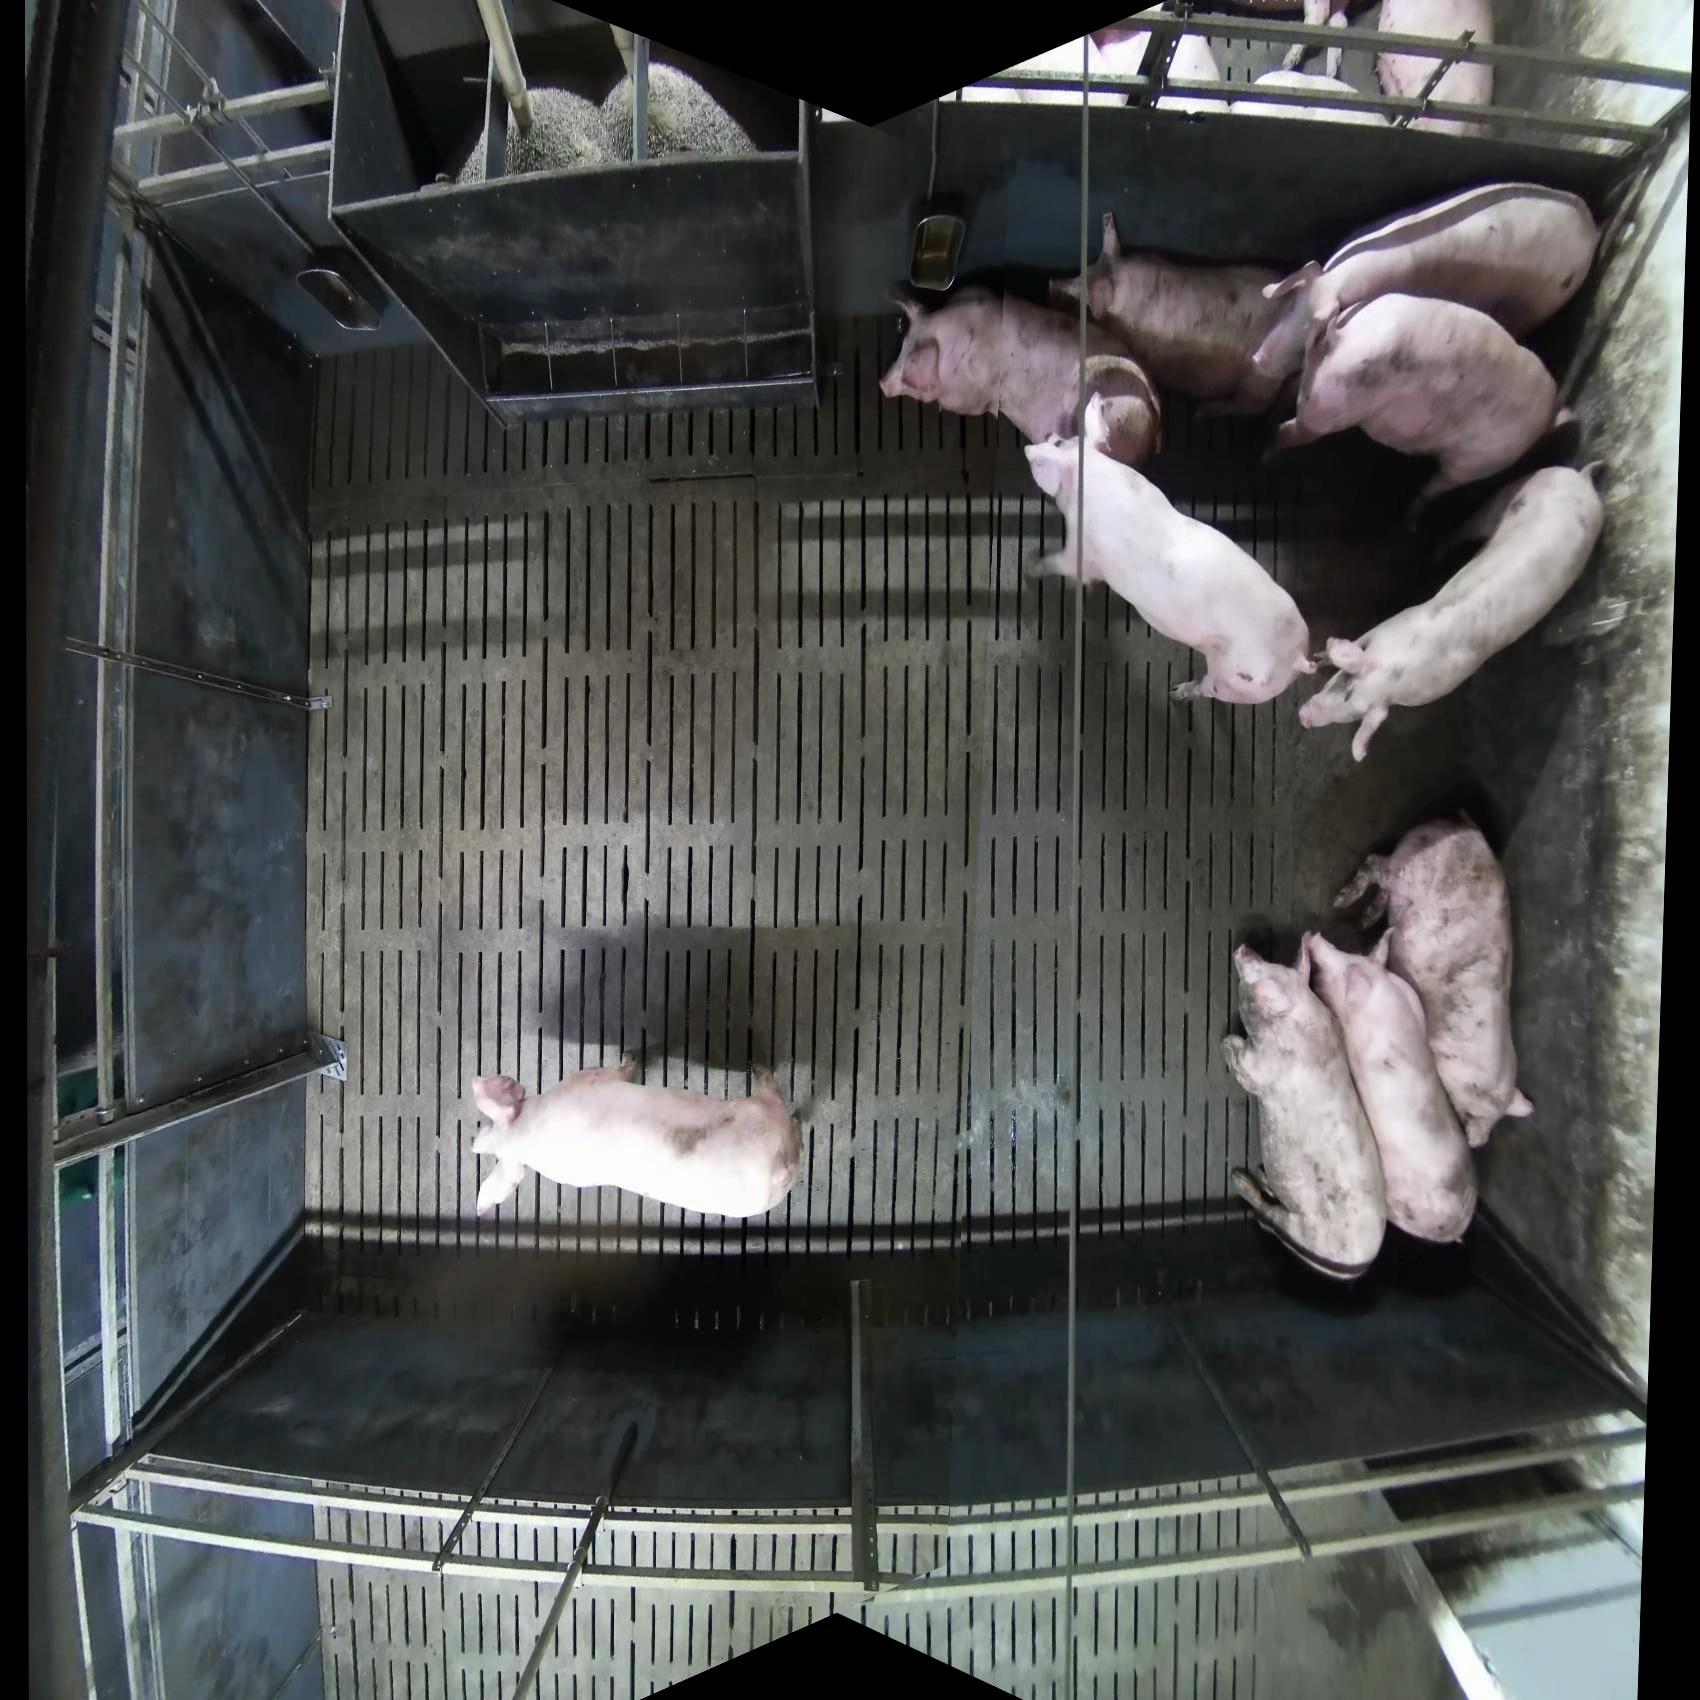pig: (1297, 462, 1608, 764), (1021, 394, 1319, 708), (1245, 181, 1600, 406), (1263, 291, 1565, 529), (1331, 814, 1537, 1150), (1221, 937, 1390, 1283), (1305, 926, 1480, 1245), (469, 1059, 805, 1225), (878, 279, 1164, 469), (1048, 212, 1309, 419), (1375, 2, 1498, 139), (1090, 22, 1228, 117), (1230, 67, 1386, 125), (1281, 2, 1356, 86)
